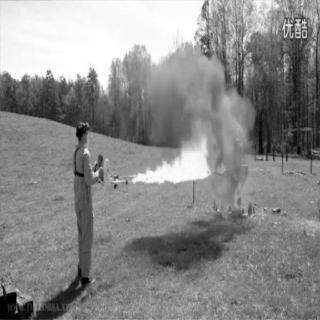Fire: (115, 108, 227, 204)
Smoke: (220, 92, 262, 216), (146, 45, 218, 103)
